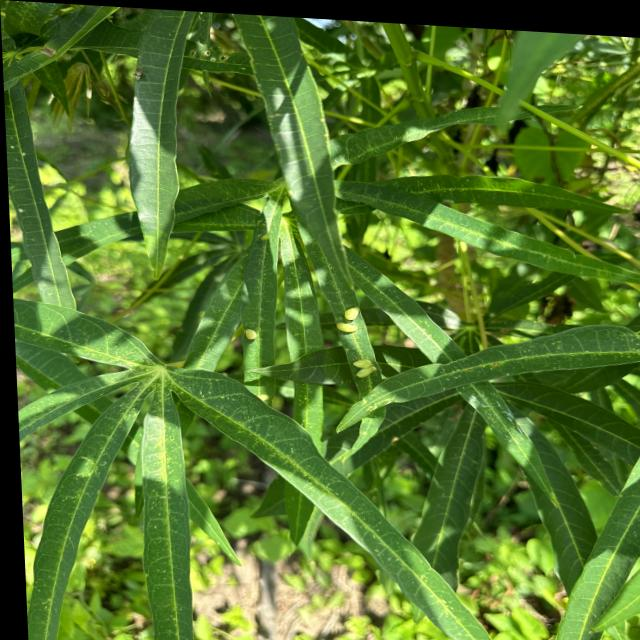Mosca: (327, 301, 369, 337), (347, 357, 378, 385), (236, 318, 257, 347)
